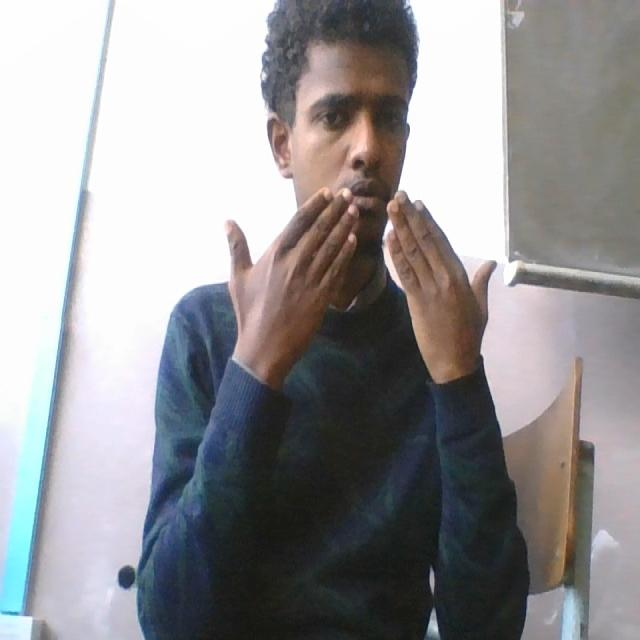ymesgen: (211, 181, 506, 394)
